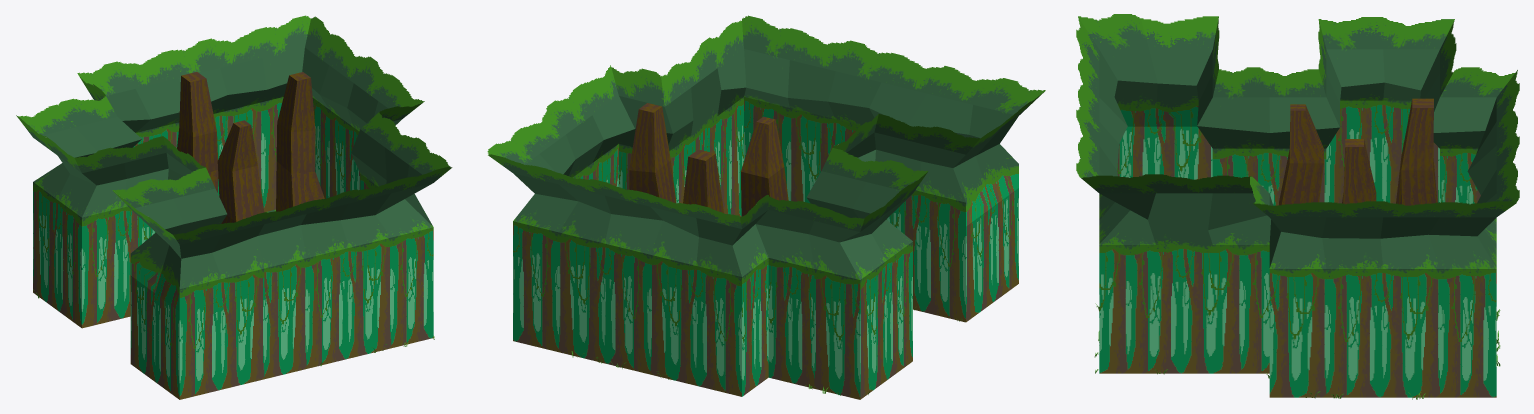
Rendered from divinity.glb.
3 views of the same model, side by side, from view 1: azimuth 30°, elevation 25°; view 2: azimuth 150°, elevation 25°; view 3: azimuth 270°, elevation 25° (orthographic). The views are drawn at different scales.
Visible parts, largest first — view 1: деревья.001, средние деревья; view 2: деревья.001, средние деревья; view 3: деревья.001, средние деревья.
Boxes of the visible parts, x1,y1,x2,y2 form: деревья.001: (16, 15, 452, 399); средние деревья: (177, 72, 324, 223); деревья.001: (487, 15, 1045, 399); средние деревья: (629, 103, 788, 216); деревья.001: (1076, 14, 1519, 397); средние деревья: (1279, 98, 1437, 205).
Bounding box in the file's own units: 15.6 × 8.6 × 15.6.
Materials: 9 (3 with a texture image).
